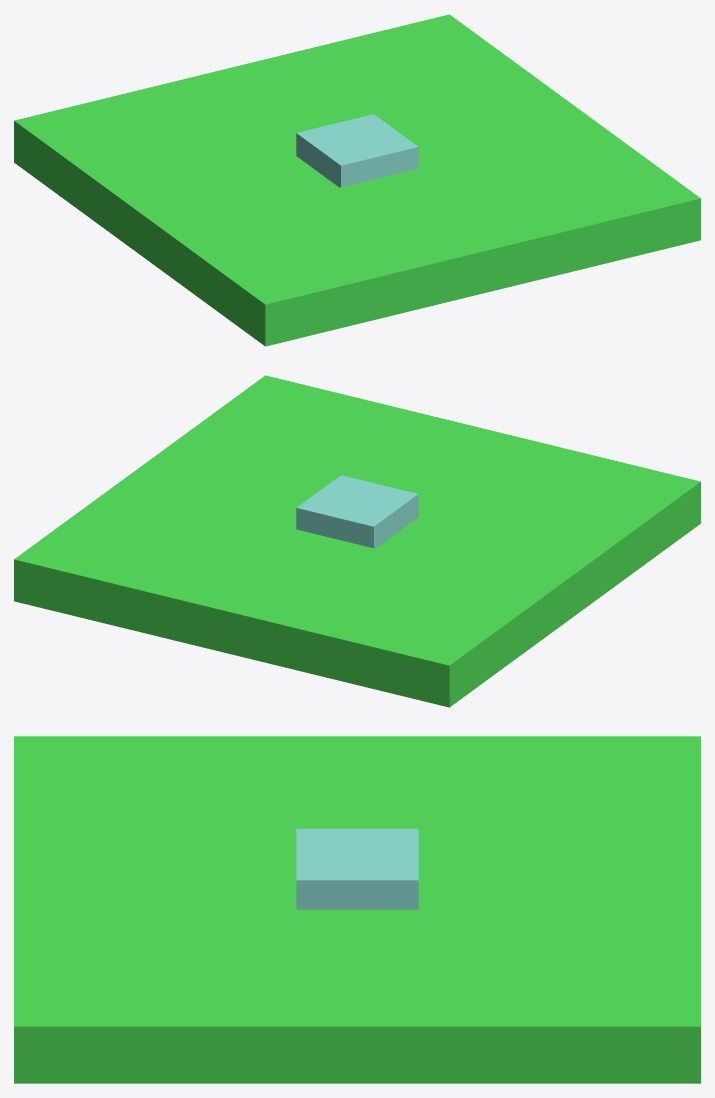
The model's file is Elevator.fbx.
3 renders of one model, top to bottom at view 1: azimuth 30°, elevation 25°; view 2: azimuth 150°, elevation 25°; view 3: azimuth 270°, elevation 25°, orthographic. The views are drawn at different scales.
Visible parts, largest first — view 1: Cube, Cube.001; view 2: Cube, Cube.001; view 3: Cube, Cube.001.
Part boxes in pixels (<box>): Cube: <box>14,14,700,346</box>; Cube.001: <box>296,114,418,187</box>; Cube: <box>14,375,700,707</box>; Cube.001: <box>296,475,418,548</box>; Cube: <box>14,736,700,1083</box>; Cube.001: <box>296,828,418,909</box>.
Size of the model in its own units: 687 by 122 by 687.
